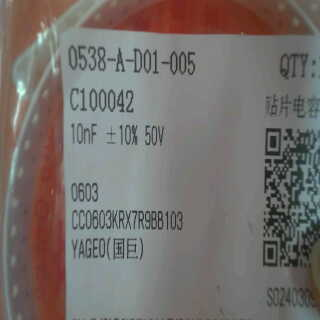10nF: (68, 118, 102, 146)
